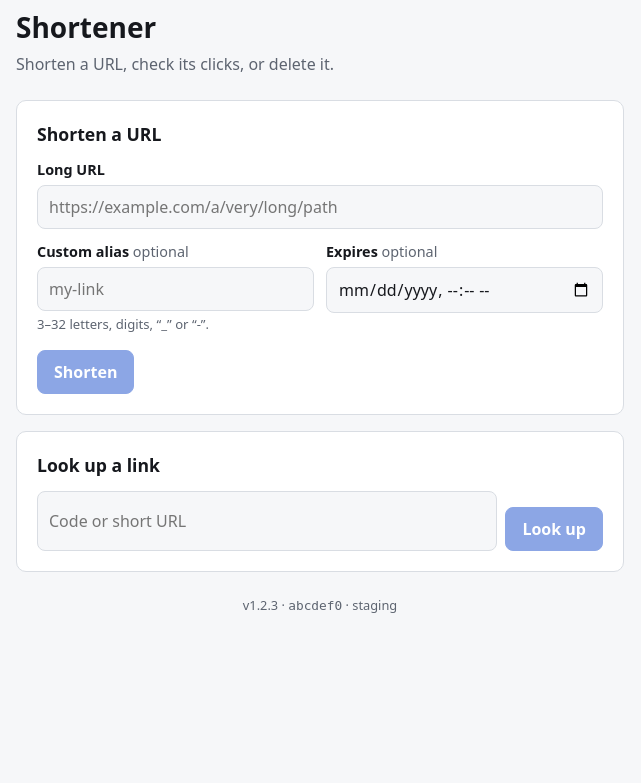
Test: looking up a link › accepts a full short URL and shows the details
The image size is (641, 783).
Type "https://sho.rt/promo" into the field named "Short code or URL".
click(267, 521); type("https://sho.rt/promo")  # box [37, 491, 497, 551]
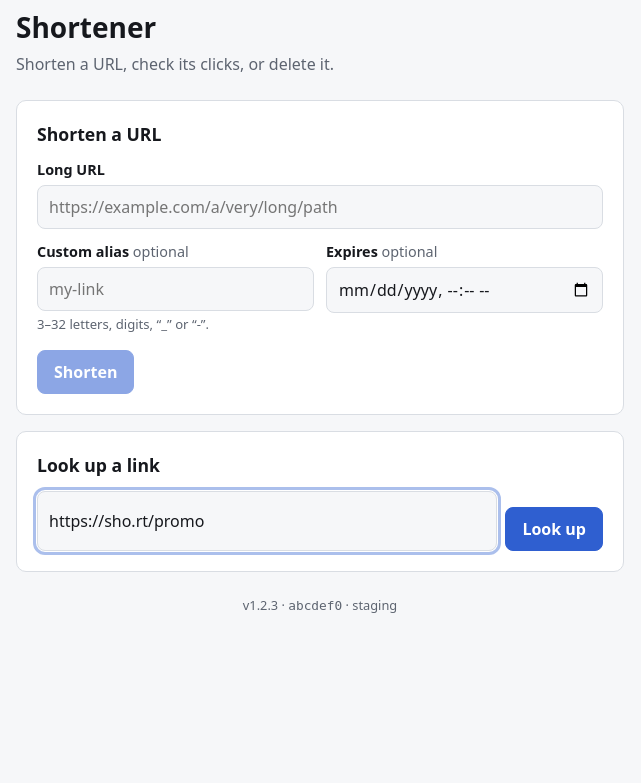
Click the button "Look up".
click(554, 529)  # box [505, 507, 603, 551]
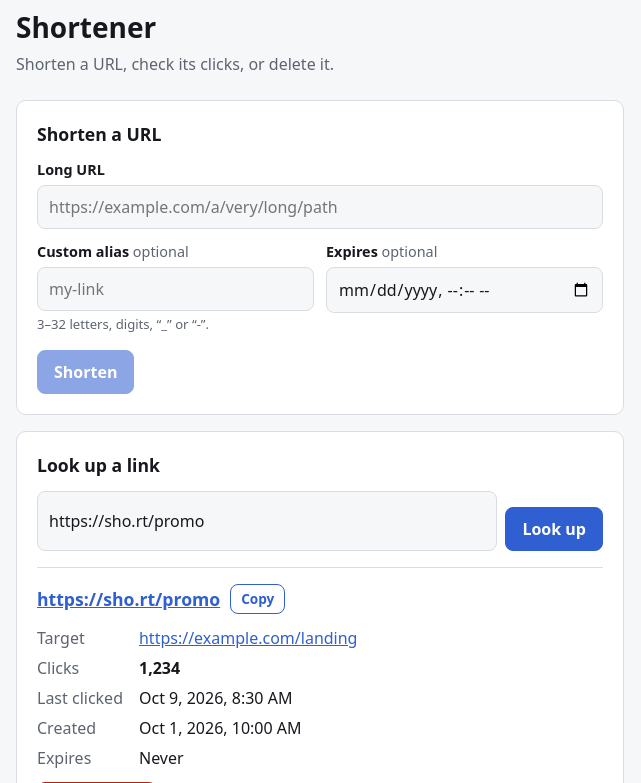
Expected: the text "1,234" is shown, [139, 657, 180, 679]
Expected: the link "https://example.com/landing" is shown, [139, 627, 358, 649]
Expected: the text "Never" is shown, [139, 747, 184, 769]
